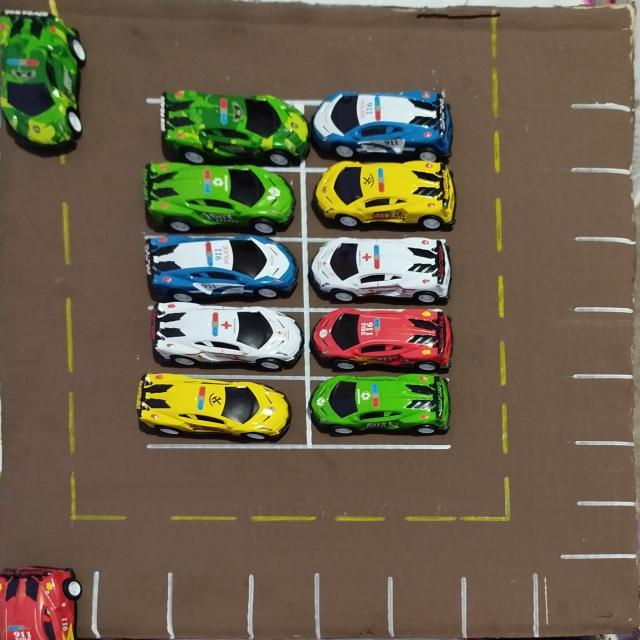libre: (88, 571, 170, 640), (169, 572, 251, 640), (571, 240, 640, 312), (390, 572, 463, 640), (572, 169, 639, 242), (569, 374, 640, 442), (320, 572, 390, 640), (570, 309, 640, 376), (464, 573, 535, 639), (567, 442, 640, 506), (251, 574, 320, 640), (573, 105, 640, 171), (569, 504, 640, 558)
no_estacionarse: (537, 560, 640, 640)
ocupado: (144, 164, 303, 238), (143, 236, 305, 308), (143, 306, 306, 376), (142, 376, 307, 445), (303, 166, 450, 240), (147, 98, 302, 168), (304, 238, 446, 308), (308, 376, 450, 446), (302, 98, 444, 166), (306, 308, 448, 376), (0, 564, 87, 640)
